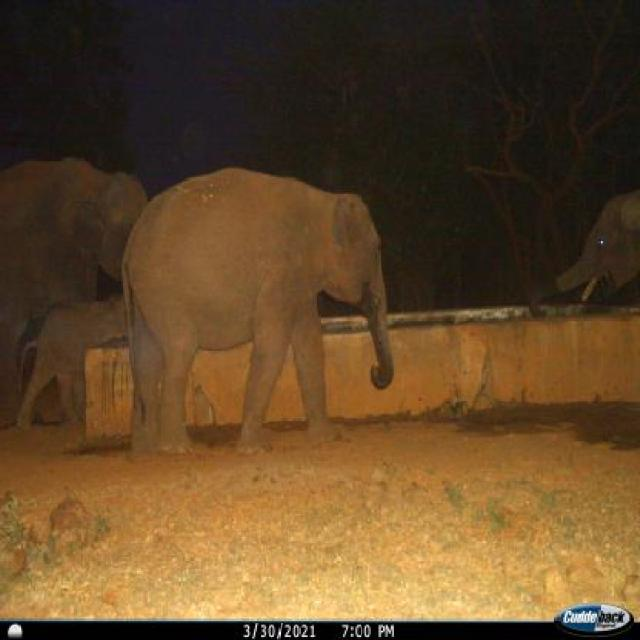Elephant: (114, 166, 400, 452), (5, 146, 160, 417), (530, 174, 638, 372)
